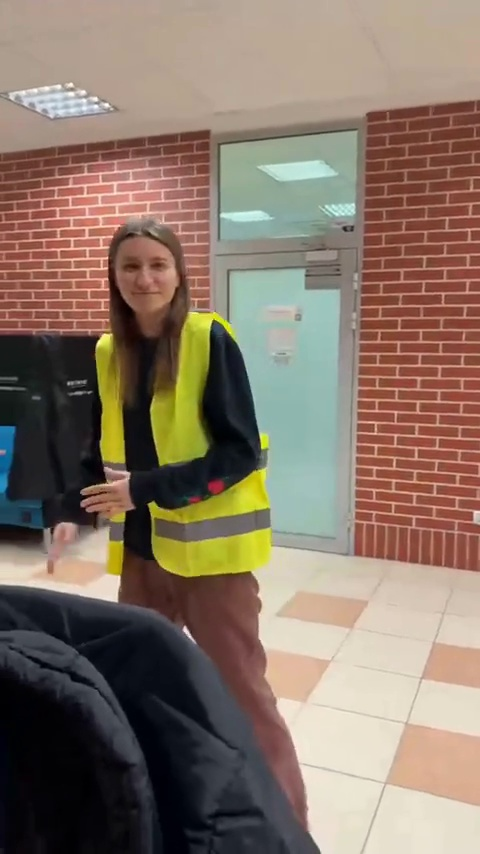vest: (103, 232, 271, 673)
